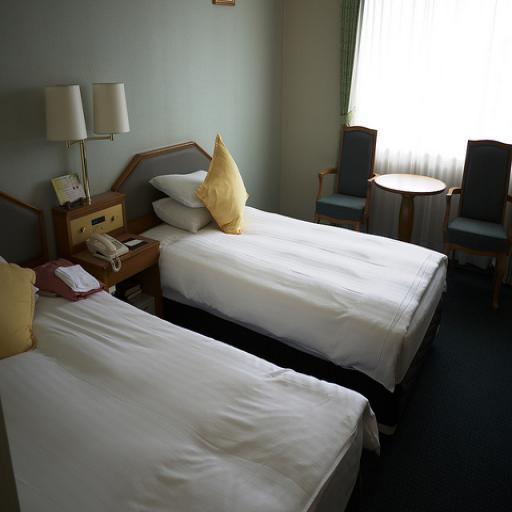bed: (112, 124, 512, 398)
